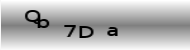7: (62, 24, 76, 38)
D: (78, 25, 94, 38)
Q: (24, 10, 40, 24)
a: (106, 25, 119, 37)
b: (37, 13, 50, 28)
